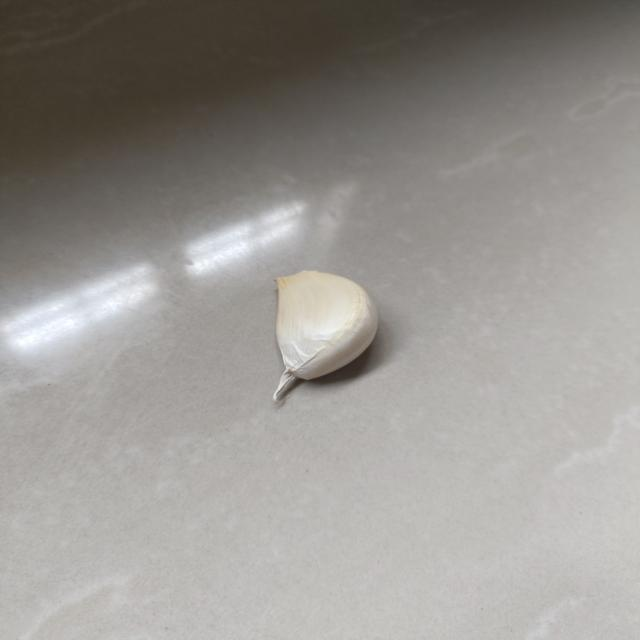garlic: (250, 265, 391, 411)
